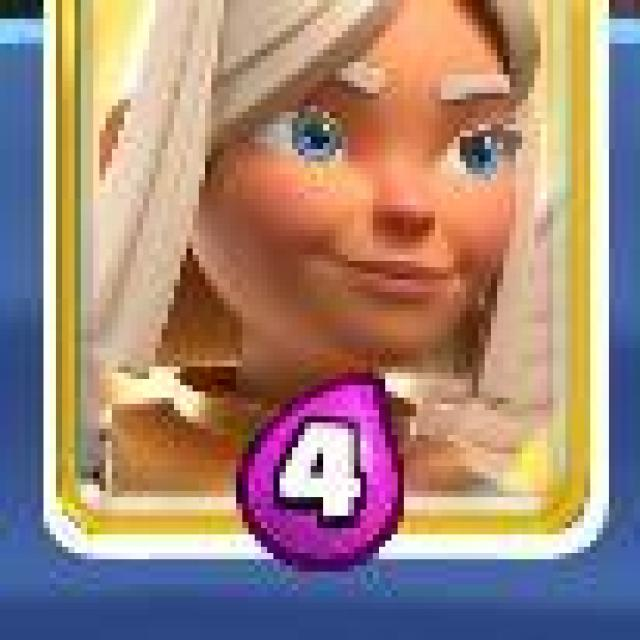Battle_Healer: (38, 0, 613, 564)
